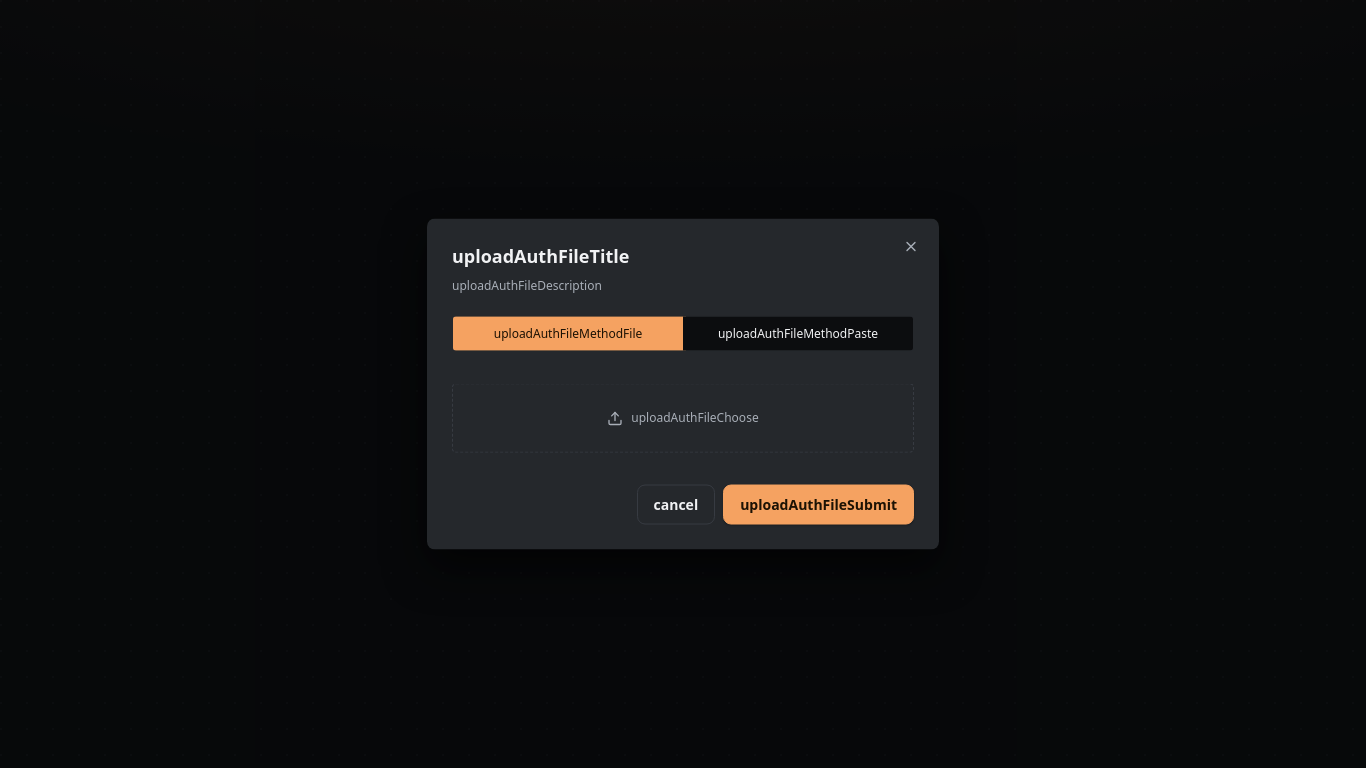
Test: CliproxyAuthFileUploadDialog › 切换到粘贴模式后展示文本框
The image size is (1366, 768).
Click the button "uploadAuthFileMethodPaste" at x=798, y=334, box left=683, top=316, right=913, bottom=351
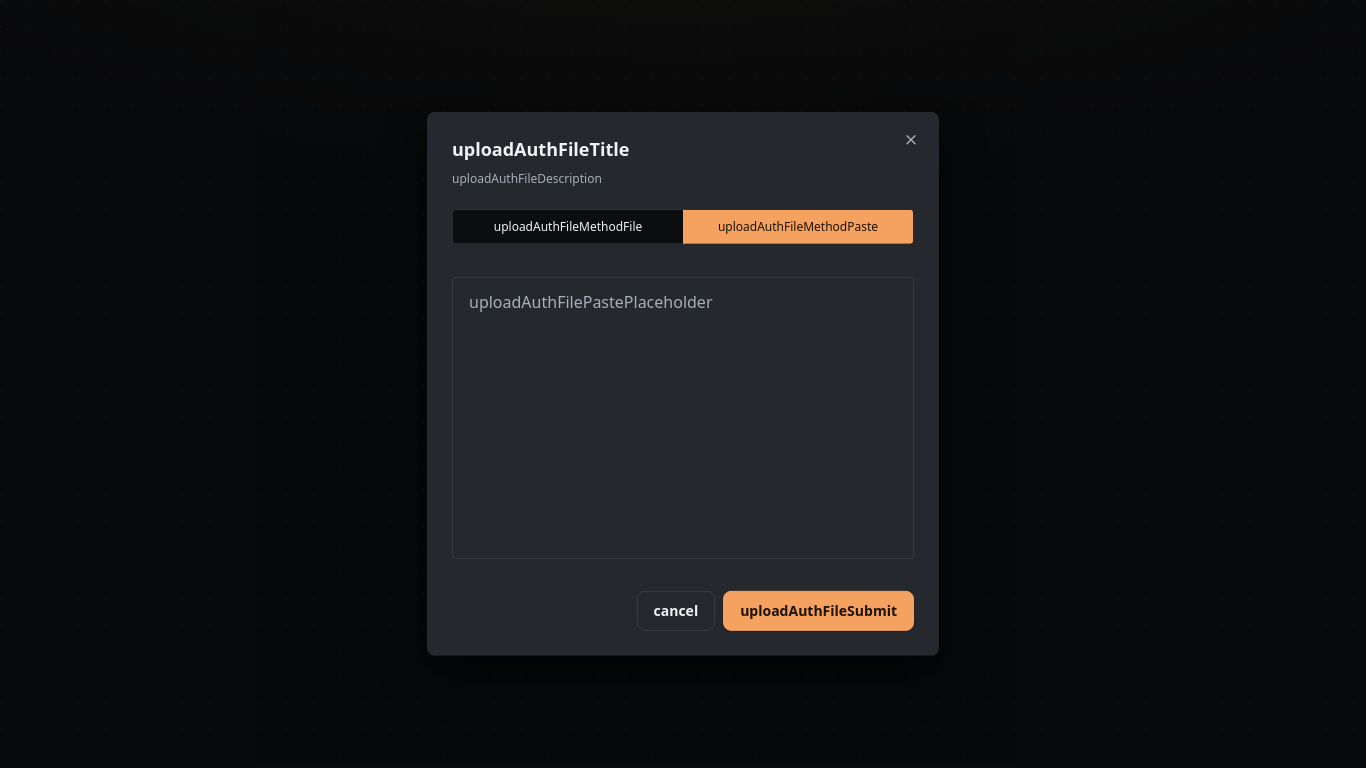
Check: the text box with placeholder "uploadAuthFilePastePlaceholder" is shown, box left=452, top=277, right=914, bottom=559
